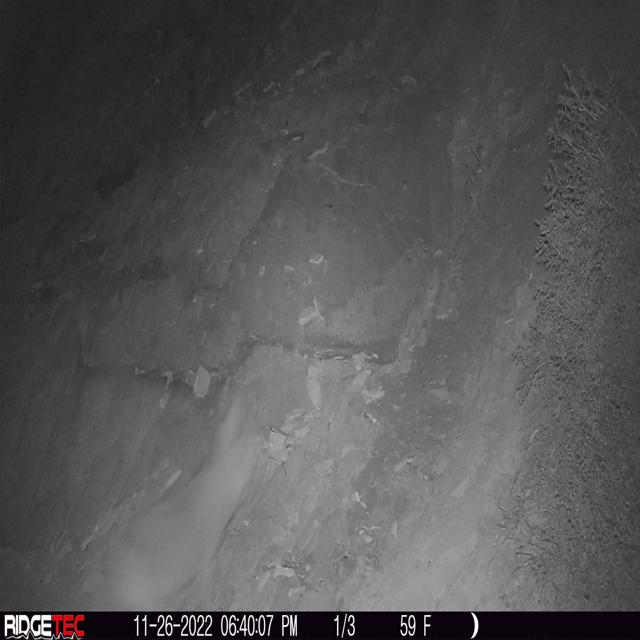coyote: (96, 388, 266, 611)
